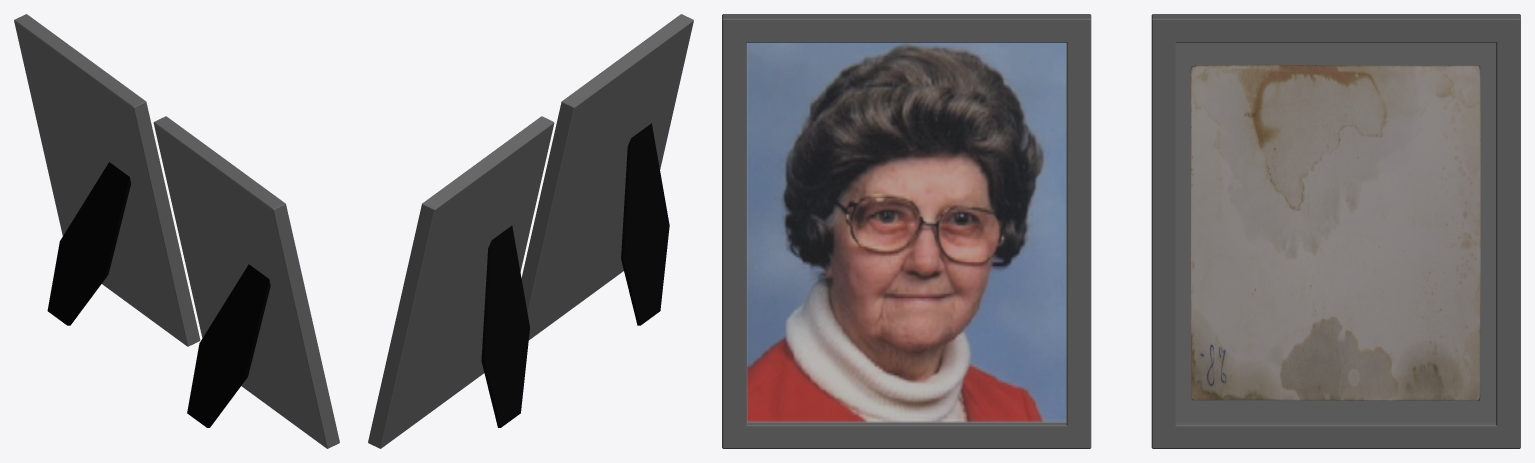
File: Pictureframes_Small.fbx
The picture shows the model from 3 angles, left to right: view 1: azimuth 30°, elevation 25°; view 2: azimuth 150°, elevation 25°; view 3: azimuth 270°, elevation 25°; orthographic projection. The views are drawn at different scales.
Parts seen in each view (by area): view 1: pCube7, pCube6; view 2: pCube7, pCube6; view 3: pCube6, pCube7.
Part boxes in pixels (bbox=[...]): pCube7: bbox=[14, 14, 200, 346]; pCube6: bbox=[153, 116, 339, 448]; pCube7: bbox=[368, 116, 554, 448]; pCube6: bbox=[521, 14, 693, 340]; pCube6: bbox=[722, 14, 1091, 448]; pCube7: bbox=[1151, 14, 1520, 448].
Bounding box in the file's own units: 0.0598 × 0.1756 × 0.3226.
5 materials, 2 textured.
